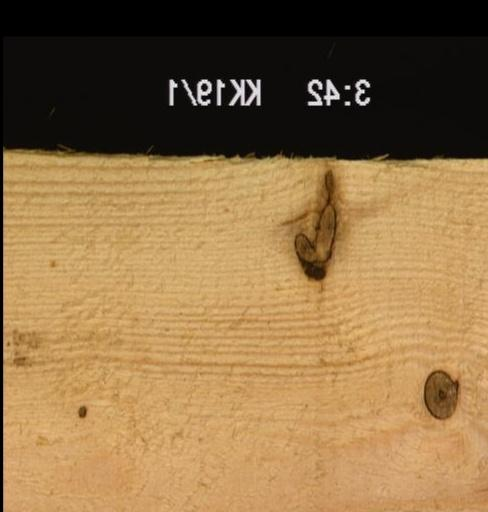dry_knot: (422, 367, 460, 419)
small_knot: (75, 401, 89, 418)
